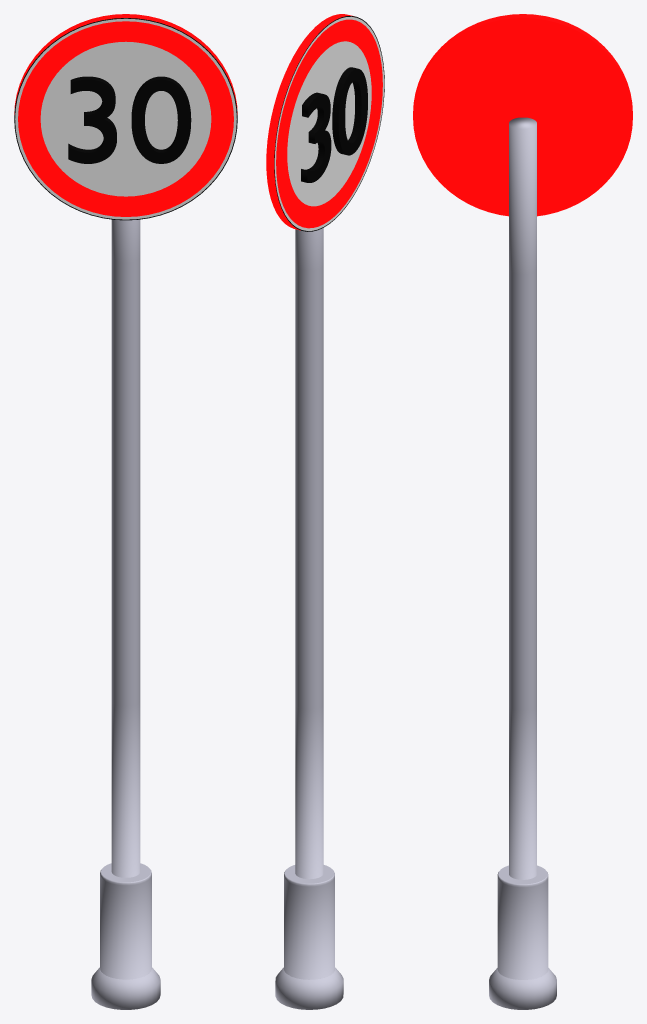
The model's file is AzamiHizSiniri30.dae.
3 views of the same model, side by side, from view 1: azimuth 90°, elevation 25°; view 2: azimuth 150°, elevation 25°; view 3: azimuth 270°, elevation 25° (orthographic).
Parts seen in each view (by area): view 1: S_limit20_sing, S_limit_20_body, Text; view 2: S_limit_20_body, S_limit20_sing, Text; view 3: S_limit20_sing, S_limit_20_body.
Part boxes in pixels (left/top/right/bottom): S_limit20_sing: left=14, top=14, right=237, bottom=220; S_limit_20_body: left=91, top=219, right=160, bottom=1009; Text: left=68, top=76, right=191, bottom=163; S_limit_20_body: left=275, top=228, right=343, bottom=1009; S_limit20_sing: left=266, top=14, right=384, bottom=231; Text: left=301, top=67, right=367, bottom=182; S_limit20_sing: left=413, top=14, right=632, bottom=216; S_limit_20_body: left=489, top=117, right=556, bottom=1009.
Bounding box in the file's own units: 0.1839 × 0.6 × 2.93.
